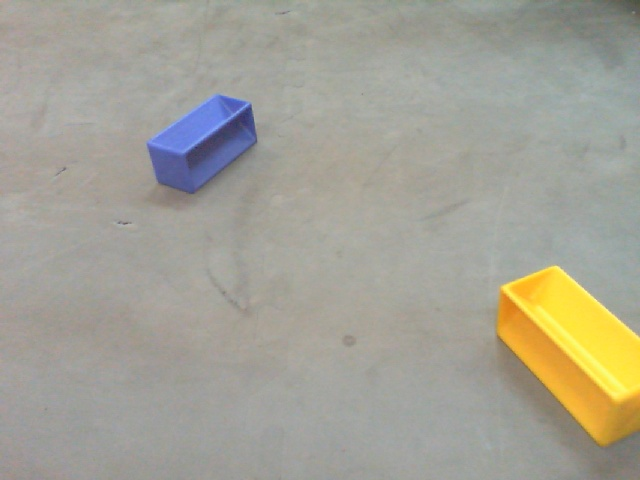BlueSample: (141, 93, 262, 196)
YellowSample: (497, 262, 640, 449)
